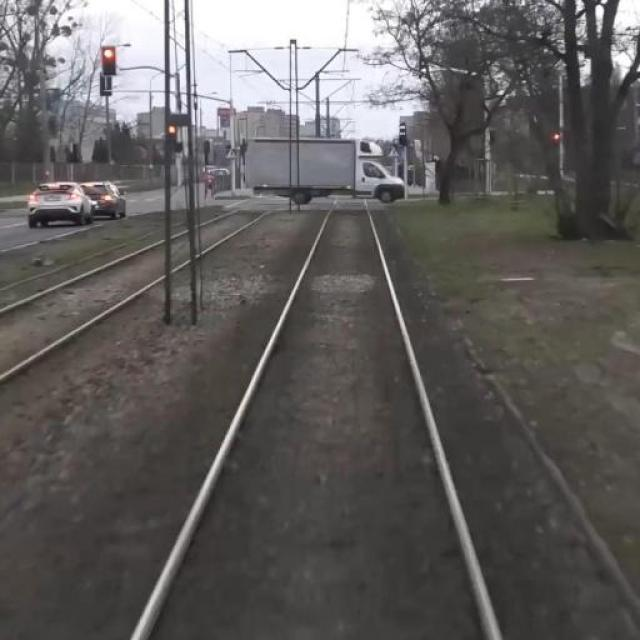vehicle: (239, 132, 416, 209), (26, 177, 92, 230), (80, 177, 129, 218)
